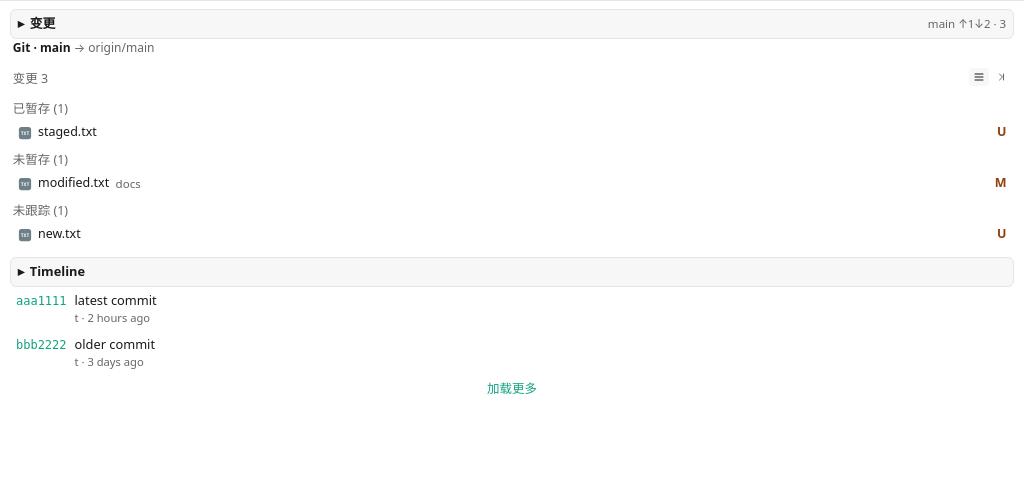
Test: GitPanel 提交文件联动（git-timeline-files F1-F4） › F1 点提交 → 展开文件维变更清单（名+状态字母+改名原路径），行高亮选中态
The image size is (1024, 483).
Expected: the button with class "git-commit" that starts with "aaa1111" is shown, 13,287 -> 1011,331
Click the text "latest commit": (116, 300) 74,291 -> 157,310
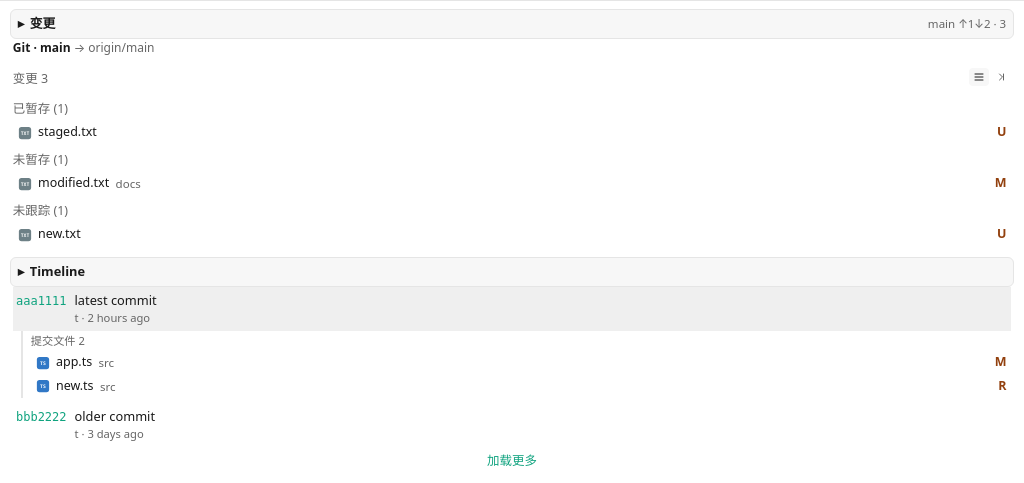
Now the element with class "git-commit-files" is shown, box 21,331 -> 1011,398
Now the text "提交文件 2" is shown, box 31,332 -> 85,348
Now the text "app.ts" is shown, box 56,353 -> 92,372
